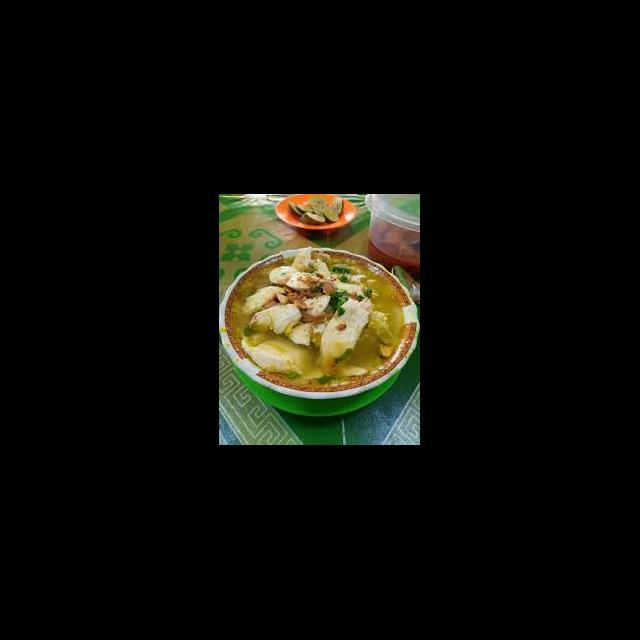Soto: (225, 245, 416, 396)
